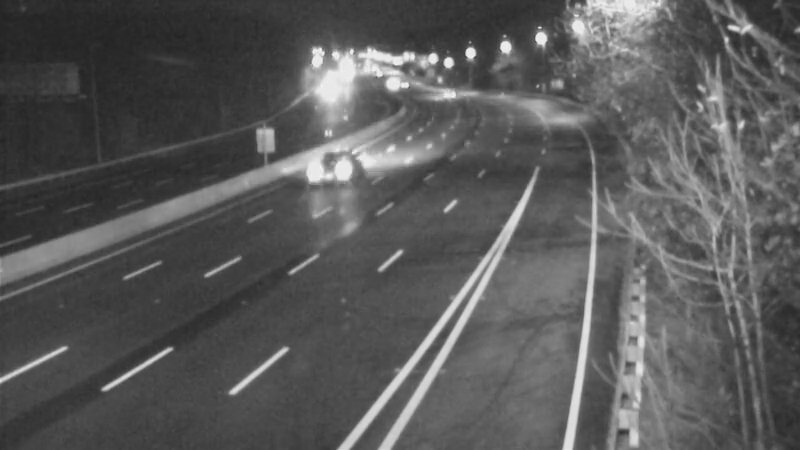vehicle: (289, 132, 369, 212), (360, 57, 410, 107), (378, 59, 428, 109), (420, 68, 470, 118)
